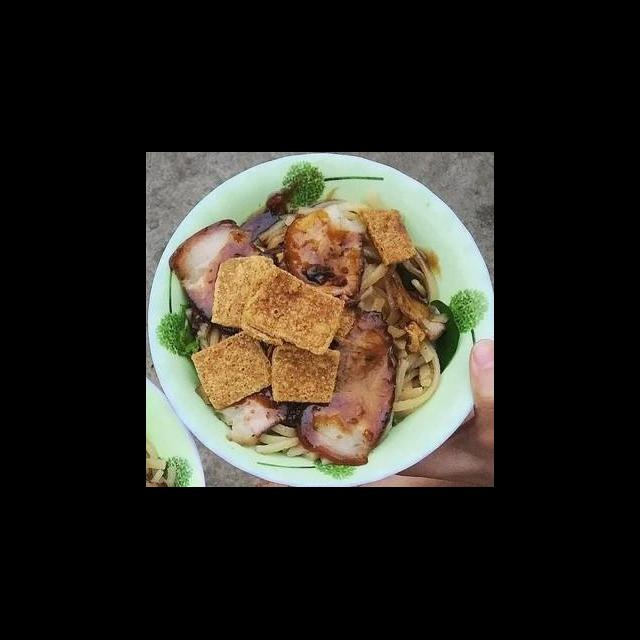banh da: (240, 262, 347, 358), (189, 328, 277, 413), (207, 252, 281, 334), (267, 342, 343, 408), (354, 206, 419, 268)
mi: (352, 238, 451, 426), (254, 203, 316, 270), (182, 307, 237, 353)
mi quang: (149, 171, 494, 488)
thit heo: (292, 308, 400, 468), (167, 218, 274, 338), (280, 208, 367, 312), (194, 386, 292, 450)
